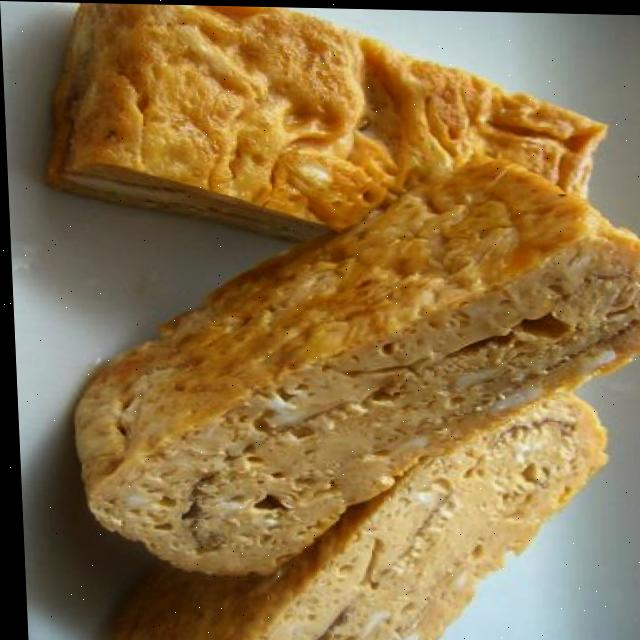鸡蛋料理: (32, 1, 640, 640)
